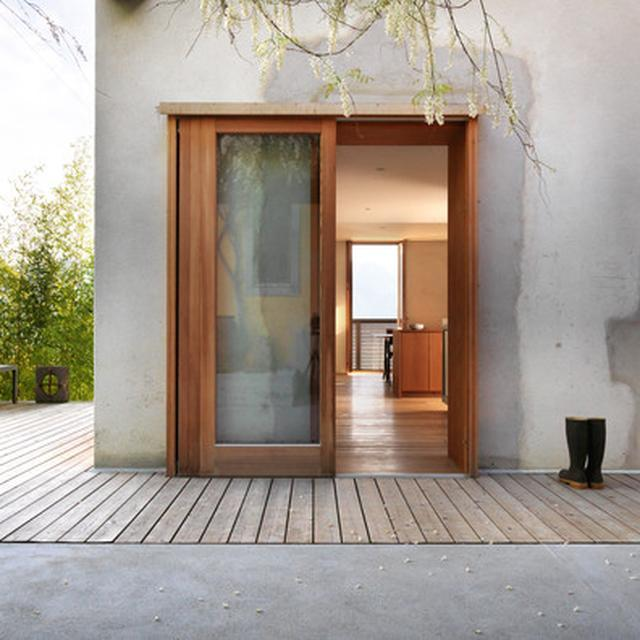building: (92, 1, 640, 473)
